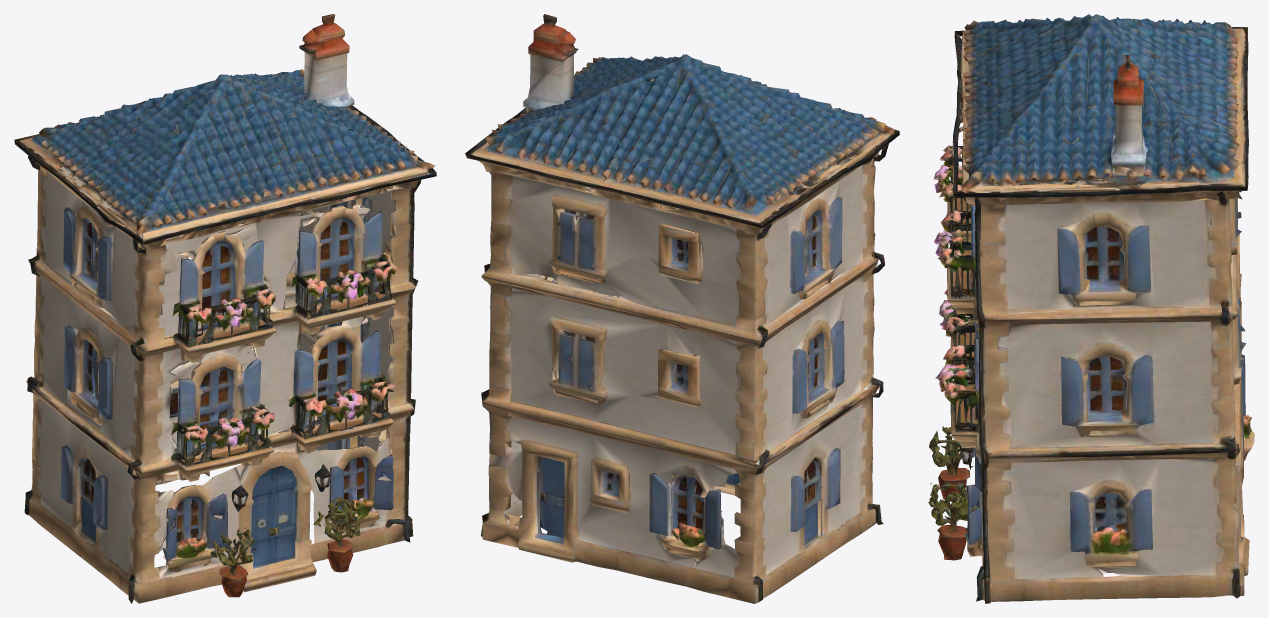
The model's file is candidate.glb.
The picture shows the model from 3 angles, left to right: view 1: azimuth 30°, elevation 25°; view 2: azimuth 150°, elevation 25°; view 3: azimuth 270°, elevation 25°; orthographic projection. The views are drawn at different scales.
Visible parts, largest first — view 1: harbor__villa_3__native_mobile; view 2: harbor__villa_3__native_mobile; view 3: harbor__villa_3__native_mobile.
Boxes of the visible parts, x1,y1,x2,y2 form: harbor__villa_3__native_mobile: [14, 14, 436, 603]; harbor__villa_3__native_mobile: [465, 14, 899, 603]; harbor__villa_3__native_mobile: [928, 14, 1254, 603].
Bounding box in the file's own units: 0.6472 × 1 × 0.5433.
1 material, 1 textured.
